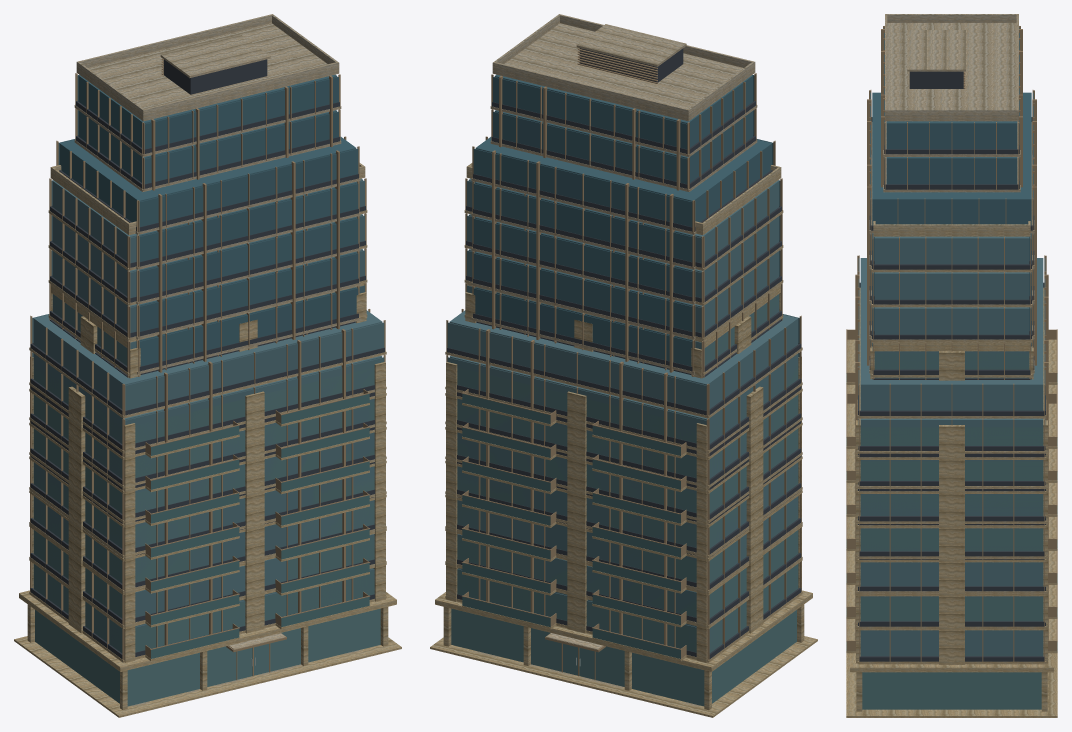
The model's file is premium-towers.glb.
3 views of the same model, side by side, from view 1: azimuth 30°, elevation 25°; view 2: azimuth 150°, elevation 25°; view 3: azimuth 270°, elevation 25° (orthographic).
Visible parts, largest first — view 1: grand-residence, harbor-tower, civic-tower; view 2: grand-residence, harbor-tower, civic-tower; view 3: civic-tower, grand-residence, harbor-tower.
Boxes of the visible parts, x1,y1,x2,y2 form: grand-residence: (14,283,401,717); harbor-tower: (56,14,361,706); civic-tower: (29,163,386,656); grand-residence: (430,283,817,717); harbor-tower: (471,14,775,706); civic-tower: (445,163,802,659); civic-tower: (855,221,1048,656); grand-residence: (846,329,1057,717); harbor-tower: (867,14,1036,373).
Size of the model in its own units: 28 by 56.3 by 18.01.
1 material, 1 textured.
